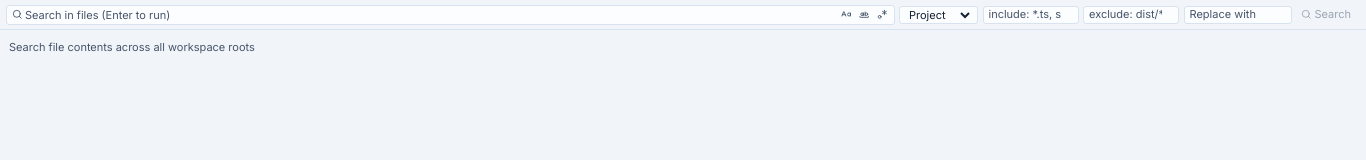
Scenario: FindInFilesPanel › cancels a running search and reports partial results
The width and height of the screenshot is (1366, 160).
In the search field named "Search query": (430, 14) [25,6,836,24], type "needle"
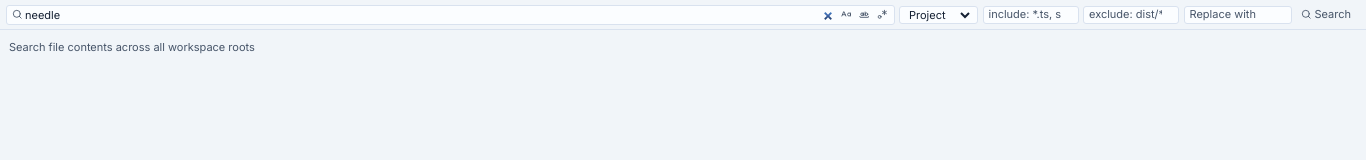
Press Enter in the search field named "Search query", box [25,6,836,24]
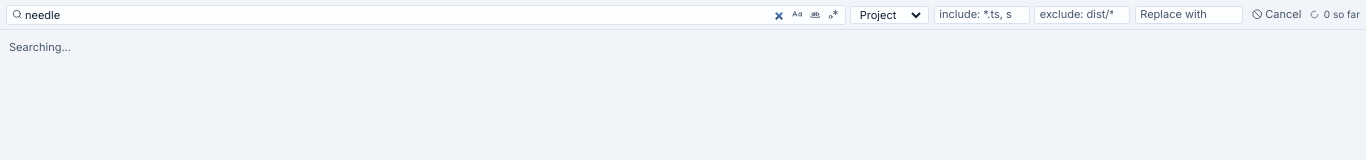
Click the button with aria-label "Cancel search": (1277, 14) [1247,6,1306,24]
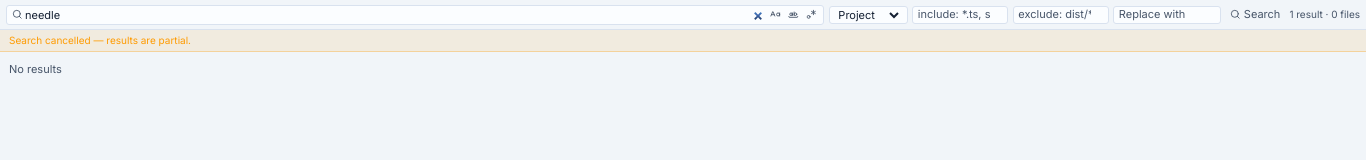
Expected: the text "Search cancelled — results are partial." is shown, [0,30,1365,52]
